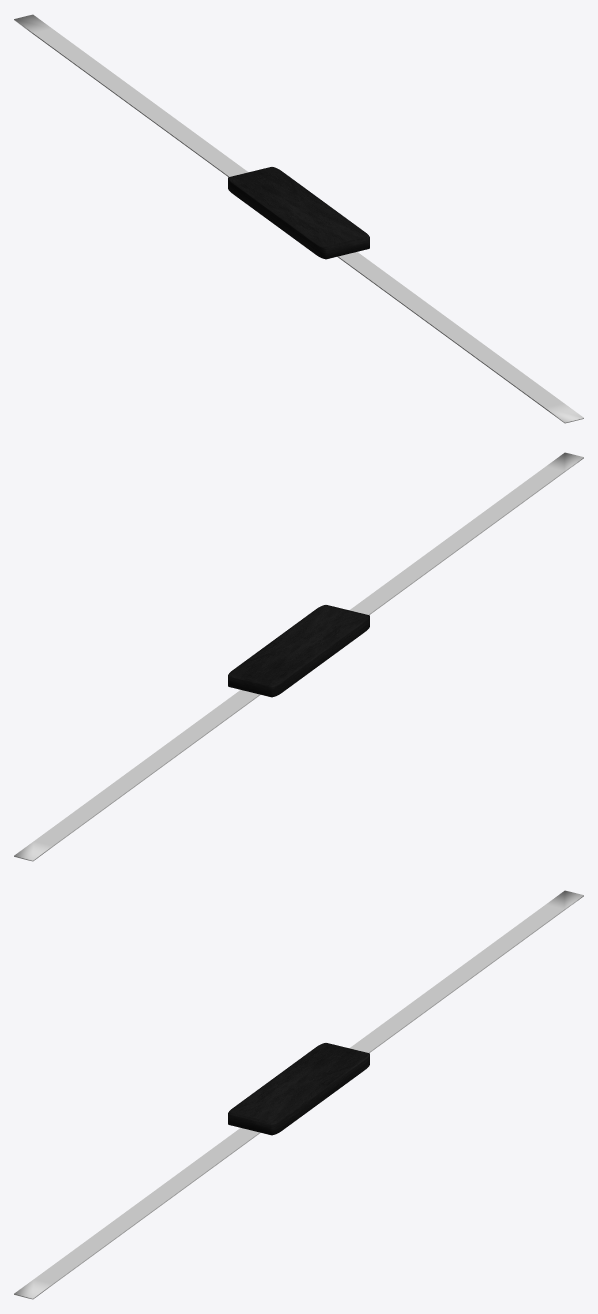
The model's file is body_strap.fbx.
3 views of the same model, one above another, from view 1: azimuth 30°, elevation 25°; view 2: azimuth 150°, elevation 25°; view 3: azimuth 330°, elevation 25° (orthographic).
Parts seen in each view (by area): view 1: strap, body_pad; view 2: strap, body_pad; view 3: strap, body_pad.
Boxes of the visible parts, x1=… form: strap: x1=14, y1=14, x2=583, y2=423; body_pad: x1=228, y1=167, x2=369, y2=259; strap: x1=14, y1=452, x2=583, y2=861; body_pad: x1=228, y1=605, x2=369, y2=697; strap: x1=14, y1=890, x2=583, y2=1299; body_pad: x1=228, y1=1043, x2=369, y2=1135.
Size of the model in its own units: 0.1287 by 0.031 by 2.48.
2 materials, 1 textured.
